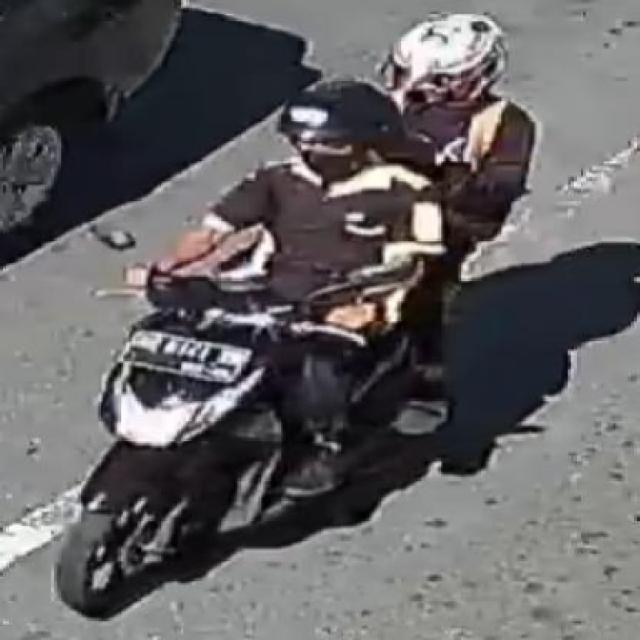helmet: (262, 38, 412, 202), (385, 14, 518, 117)
